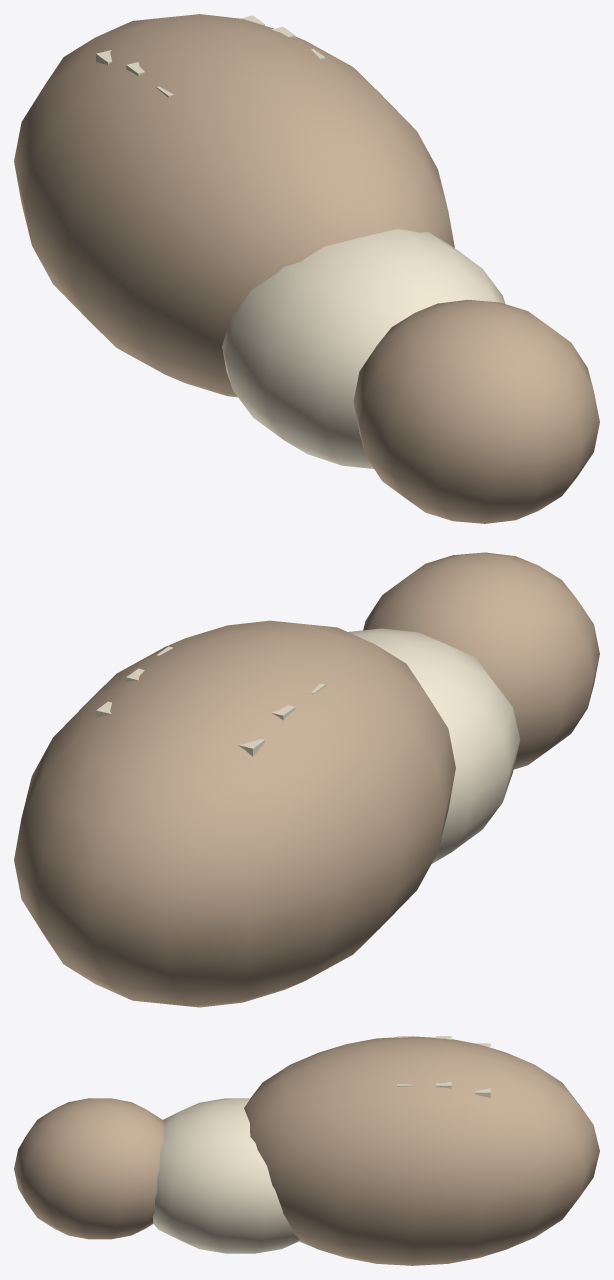
The model's file is cr_body_d.fbx.
3 views of the same model, one above another, from view 1: azimuth 30°, elevation 25°; view 2: azimuth 150°, elevation 25°; view 3: azimuth 270°, elevation 25° (orthographic). The views are drawn at different scales.
Visible parts, largest first — view 1: Body; view 2: Body; view 3: Body.
Part boxes in pixels (bbox=[...]): Body: bbox=[14, 14, 599, 523]; Body: bbox=[14, 552, 599, 1007]; Body: bbox=[14, 1036, 599, 1265].
Size of the model in its own units: 0.64 by 0.576 by 1.5.
